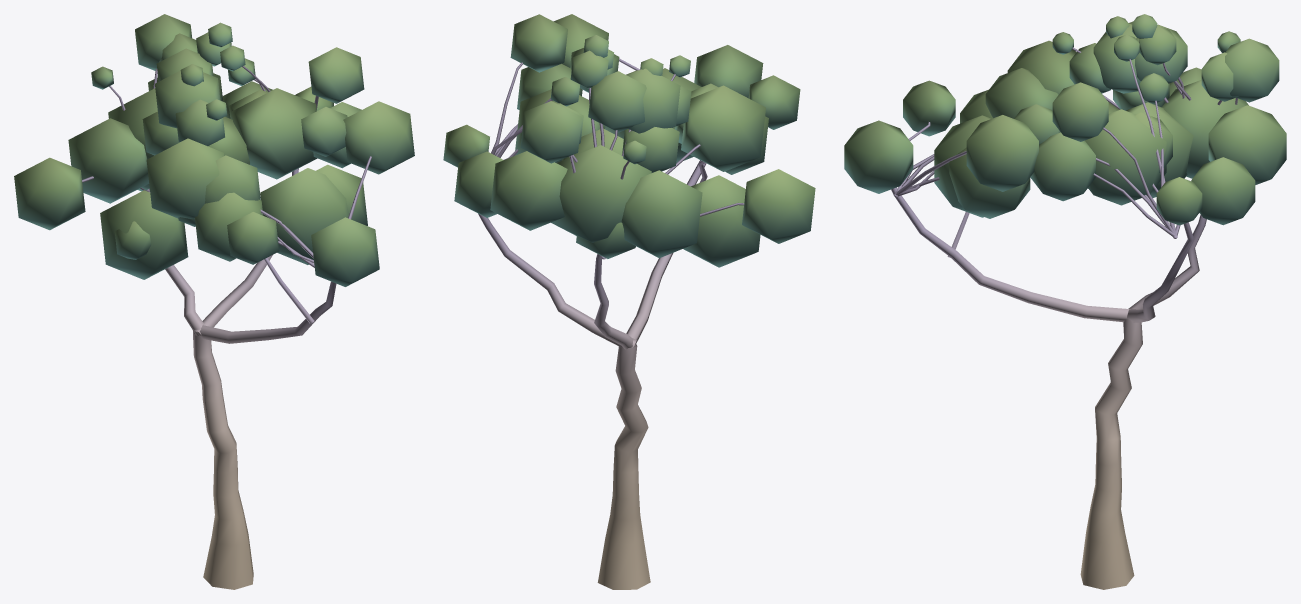
File: seed_tree_a.glb
The picture shows the model from 3 angles, left to right: view 1: azimuth 30°, elevation 25°; view 2: azimuth 150°, elevation 25°; view 3: azimuth 270°, elevation 25°; orthographic projection. The views are drawn at different scales.
Parts seen in each view (by area): view 1: seed_tree_a_LOD0; view 2: seed_tree_a_LOD0; view 3: seed_tree_a_LOD0.
Part boxes in pixels (bbox=[...]): seed_tree_a_LOD0: bbox=[14, 14, 414, 589]; seed_tree_a_LOD0: bbox=[443, 14, 815, 589]; seed_tree_a_LOD0: bbox=[844, 14, 1286, 589].
Size of what is drawn, in the model's own units: 9.23 by 14.3 by 10.07.
